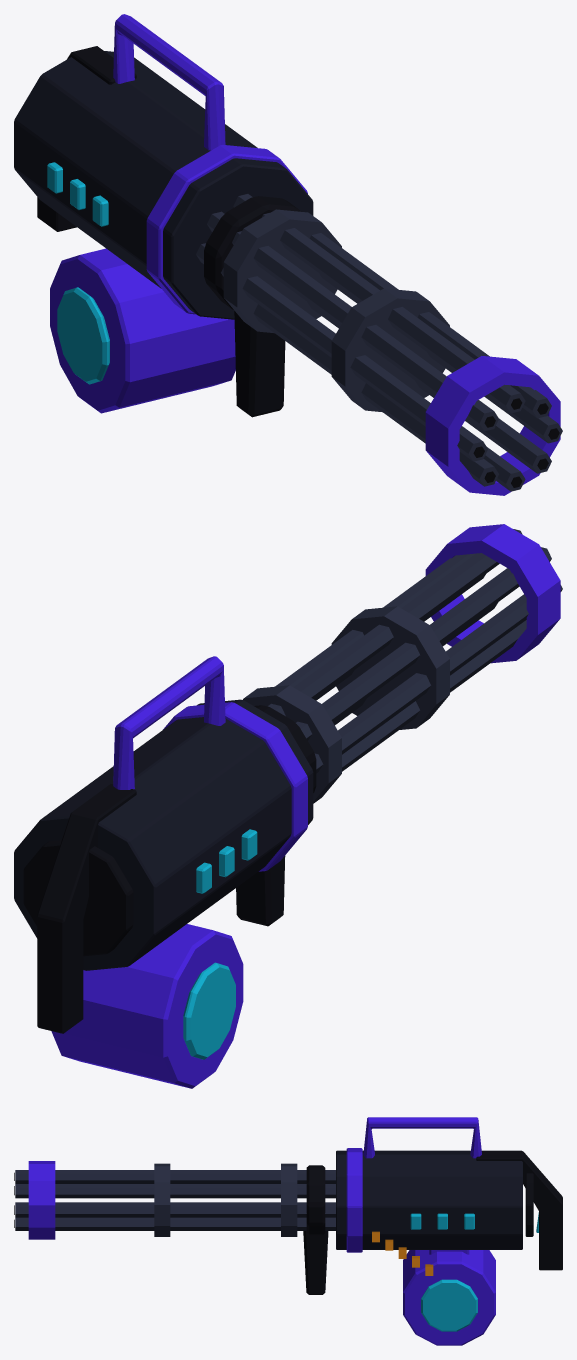
The model's file is myw_heavyminigun.obj.
3 renders of one model, top to bottom at view 1: azimuth 30°, elevation 25°; view 2: azimuth 150°, elevation 25°; view 3: azimuth 270°, elevation 25°, orthographic. The views are drawn at different scales.
Parts seen in each view (by area): view 1: Body, Barrels, AmmoDrum, Grip; view 2: Body, Barrels, AmmoDrum, Grip; view 3: Body, Barrels, AmmoDrum, Grip, Belt.
Part boxes in pixels (bbox=[...]): Body: bbox=[14, 14, 313, 319]; Barrels: bbox=[196, 194, 562, 495]; AmmoDrum: bbox=[50, 248, 235, 413]; Grip: bbox=[204, 196, 300, 417]; Body: bbox=[14, 656, 313, 1033]; Barrels: bbox=[243, 524, 562, 803]; AmmoDrum: bbox=[51, 924, 243, 1088]; Grip: bbox=[236, 705, 316, 926]; Body: bbox=[336, 1117, 562, 1270]; Barrels: bbox=[14, 1161, 335, 1239]; AmmoDrum: bbox=[403, 1250, 495, 1345]; Grip: bbox=[303, 1165, 328, 1294]; Belt: bbox=[372, 1231, 433, 1275].
Size of the model in its own units: 0.8859 by 1.75 by 4.11.
